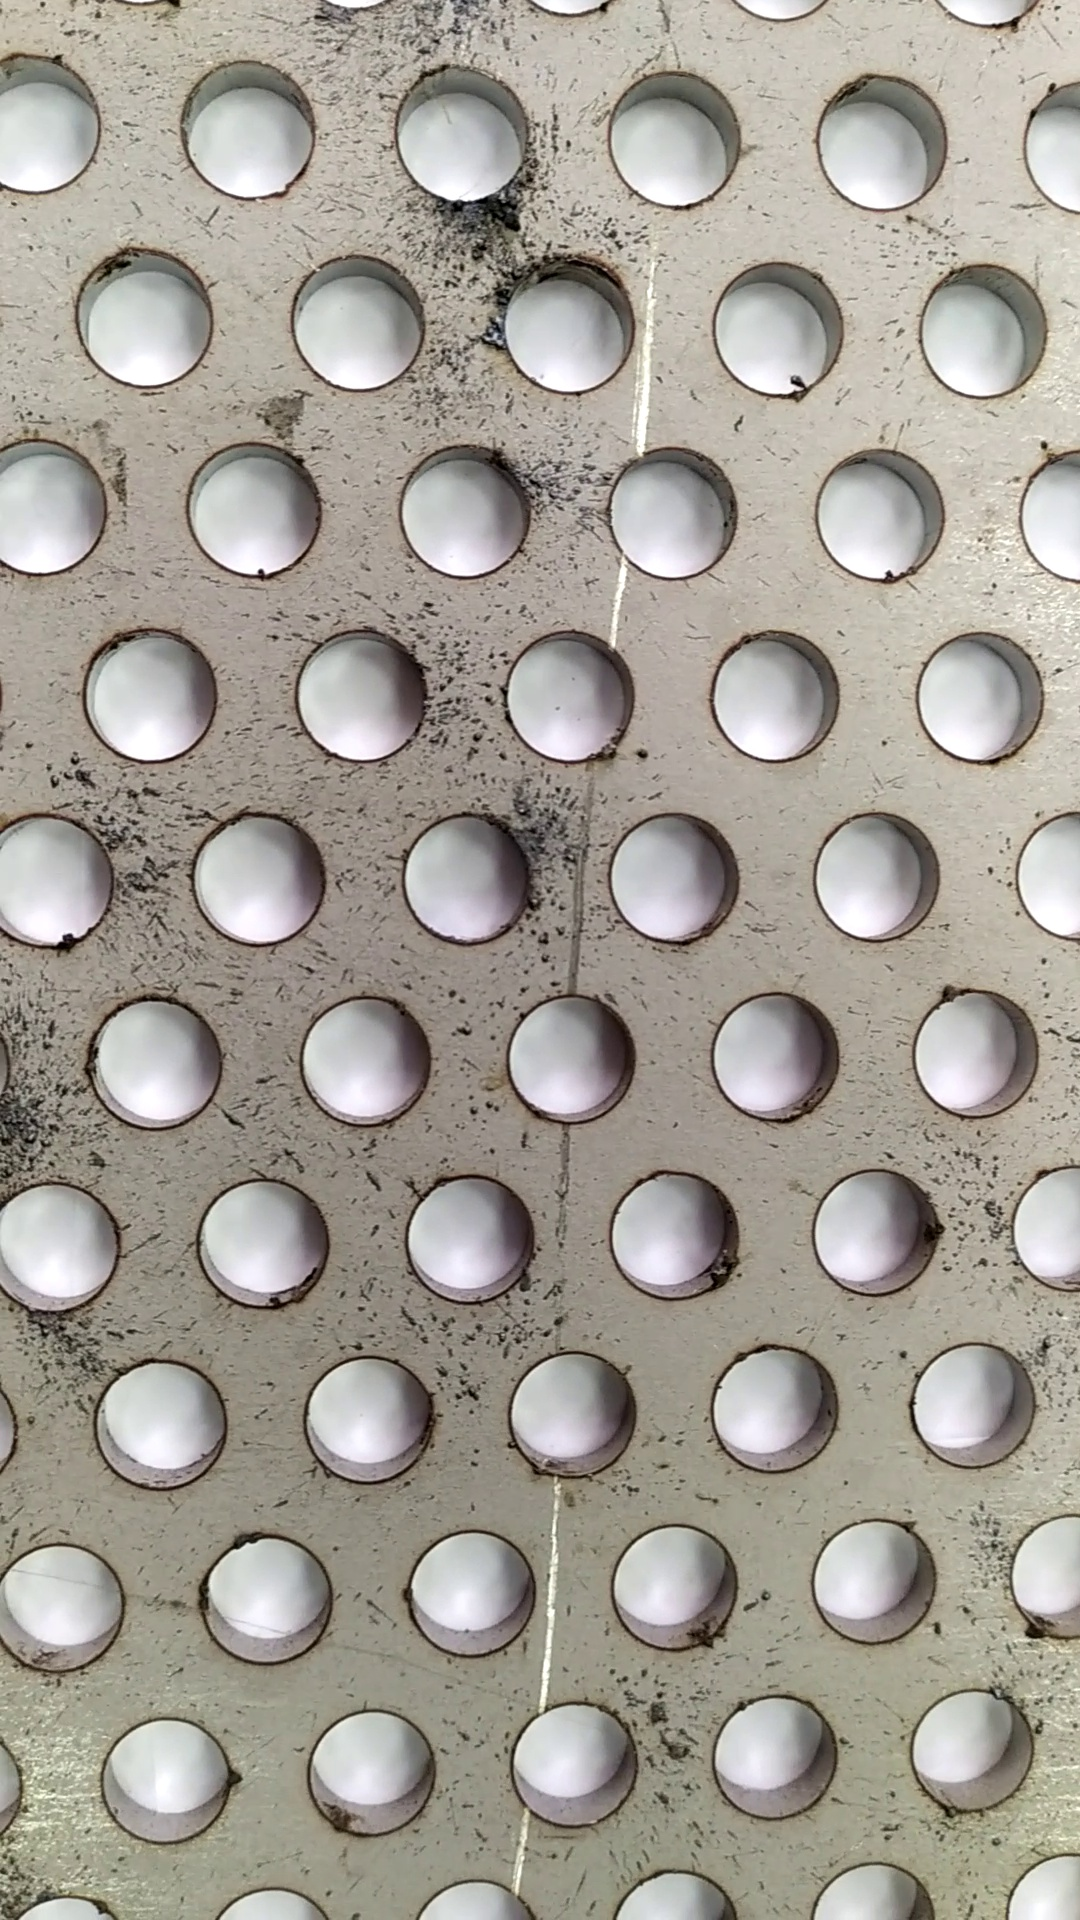Hole: (389, 1170, 571, 1309), (160, 54, 330, 203), (487, 248, 655, 396), (382, 51, 541, 207), (597, 795, 753, 953), (281, 620, 444, 770), (804, 65, 961, 220), (597, 58, 749, 218), (84, 1709, 253, 1851), (704, 252, 857, 409), (177, 430, 334, 583), (800, 436, 953, 593), (80, 1352, 243, 1499), (392, 1524, 560, 1665), (67, 240, 224, 392), (794, 1511, 957, 1656), (597, 1516, 757, 1664), (185, 800, 338, 953), (386, 438, 541, 589), (491, 620, 645, 771), (596, 436, 752, 587), (899, 258, 1059, 405), (187, 1526, 349, 1669), (894, 1335, 1054, 1480), (291, 1702, 455, 1844), (291, 1354, 459, 1491), (491, 985, 649, 1130), (79, 992, 240, 1134), (392, 803, 541, 956), (800, 796, 947, 952), (191, 1171, 347, 1317), (287, 986, 444, 1131), (498, 1338, 644, 1495), (698, 622, 849, 771), (597, 1166, 764, 1302), (899, 1679, 1051, 1826), (905, 620, 1058, 766), (800, 1154, 949, 1303), (500, 1691, 653, 1836), (700, 982, 849, 1130), (700, 1687, 857, 1826), (284, 251, 438, 392), (894, 985, 1055, 1120), (76, 618, 222, 766), (704, 1338, 849, 1481)
